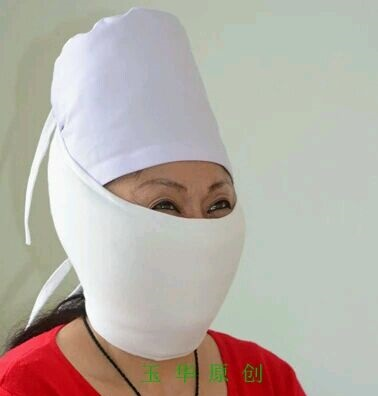face_mask: (81, 142, 245, 343)
